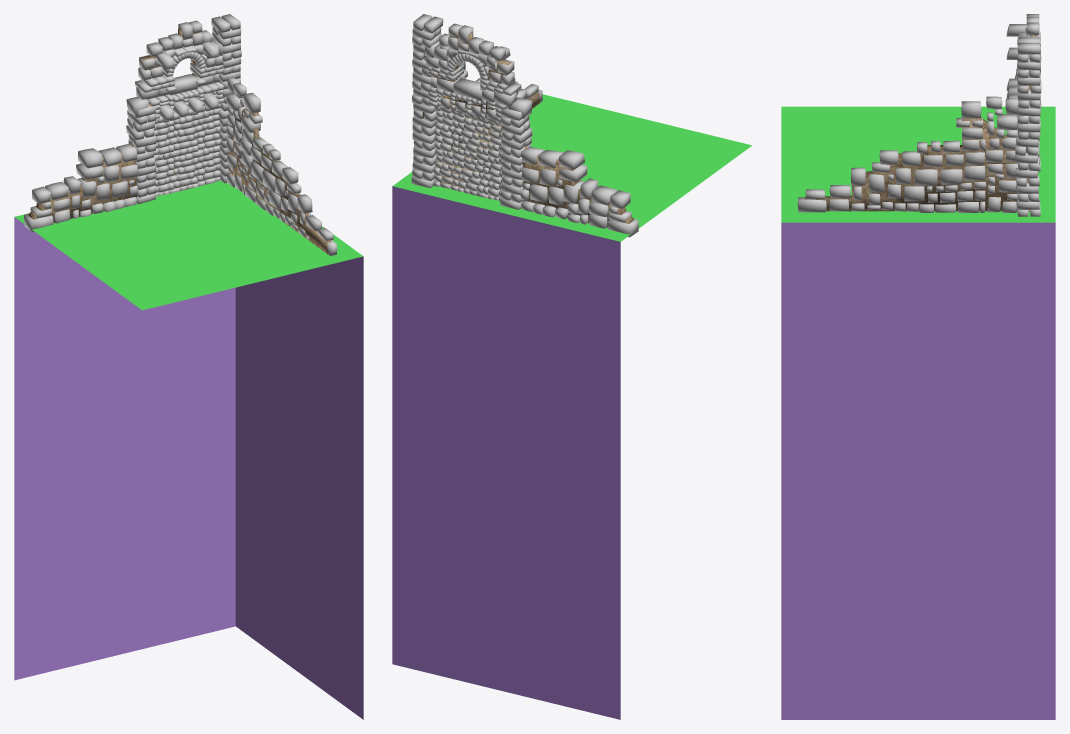
Rendered from RoomCornder_4.Lod1.fbx.
3 renders of one model, left to right at view 1: azimuth 30°, elevation 25°; view 2: azimuth 150°, elevation 25°; view 3: azimuth 270°, elevation 25°, orthographic. The views are drawn at different scales.
Parts seen in each view (by area): view 1: RoomCornder_4.Lod1; view 2: RoomCornder_4.Lod1; view 3: RoomCornder_4.Lod1.
Part boxes in pixels (x1,y1,x2,y2): RoomCornder_4.Lod1: (14,14,363,719); RoomCornder_4.Lod1: (392,14,751,719); RoomCornder_4.Lod1: (781,14,1055,719).
Bounding box in the file's own units: 400 × 1077 × 400.
